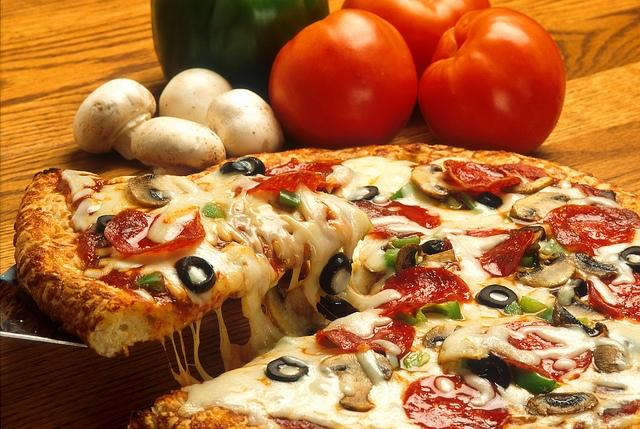bell pepper: (150, 0, 330, 107), (509, 364, 562, 393), (416, 300, 462, 322), (268, 189, 300, 214), (133, 270, 165, 292), (402, 350, 430, 370), (519, 296, 549, 313), (389, 182, 416, 200), (388, 234, 421, 248), (202, 202, 226, 219), (542, 240, 566, 254), (384, 248, 400, 268), (460, 192, 474, 210), (446, 196, 464, 210), (517, 255, 533, 268)
mushroom: (72, 78, 156, 161), (130, 116, 227, 176), (207, 90, 285, 158), (320, 352, 393, 412), (158, 68, 230, 126), (517, 252, 576, 288), (411, 164, 467, 200), (525, 392, 598, 416), (511, 192, 570, 220), (127, 173, 171, 209), (568, 252, 618, 278), (592, 345, 626, 372)
tomato: (418, 7, 566, 156), (269, 8, 418, 150), (341, 0, 492, 77)
